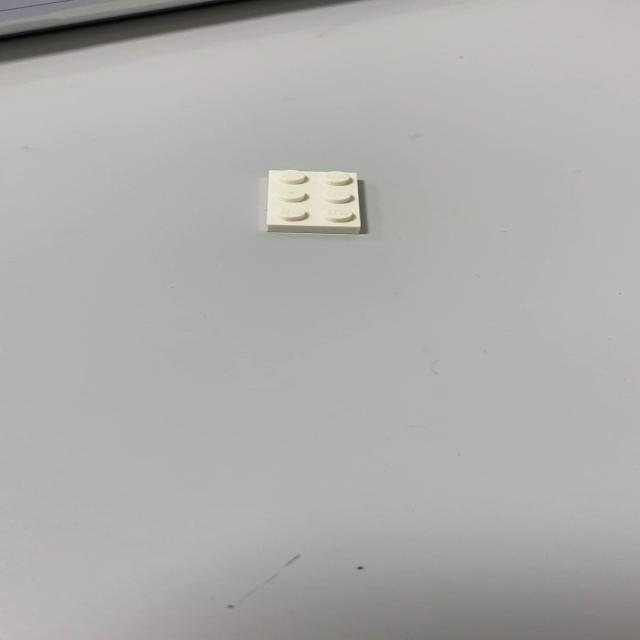C3x2x0: (264, 167, 362, 233)
